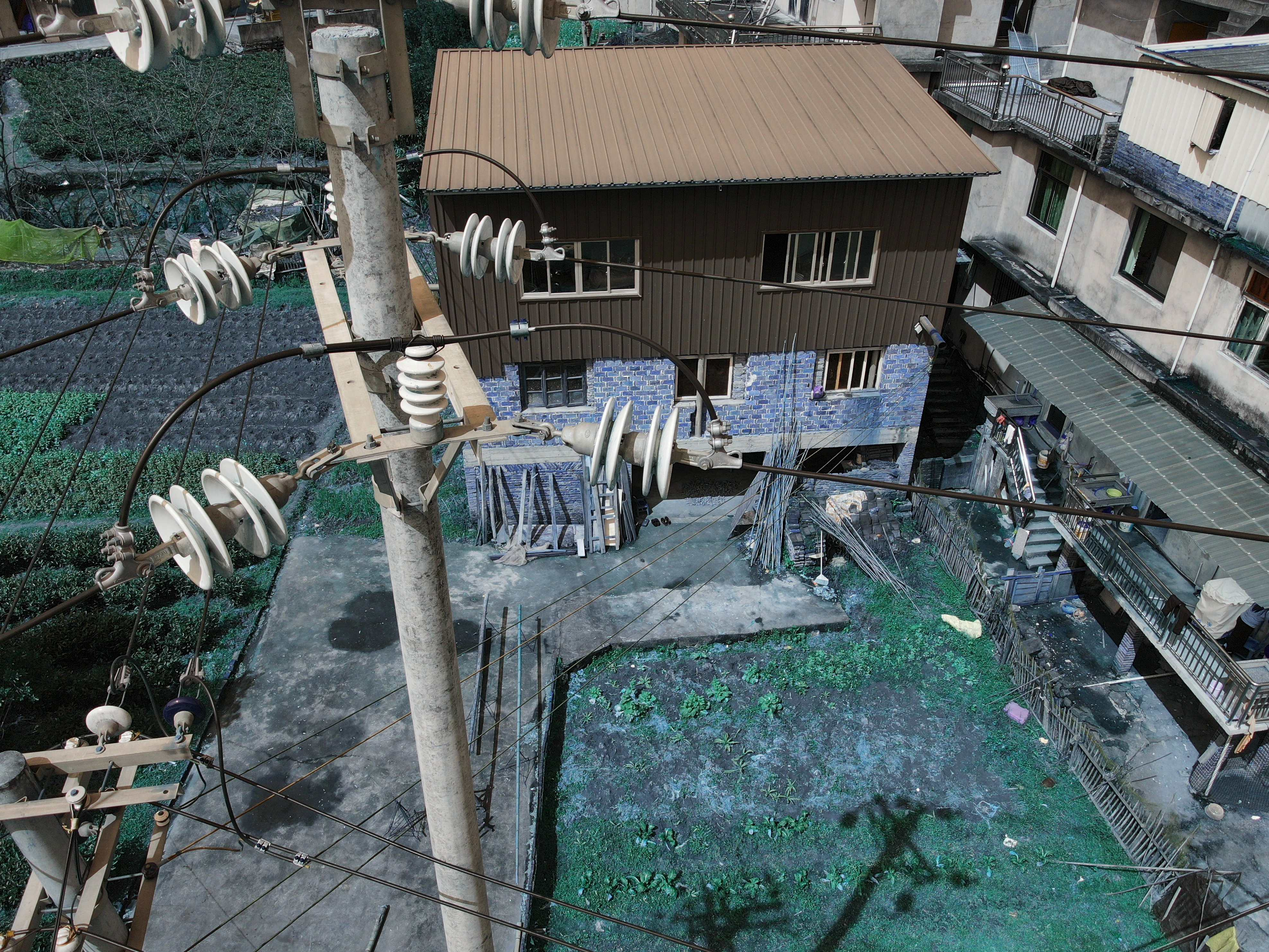severe_soiling_no_discharge_whole: (145, 456, 301, 594), (96, 2, 231, 75), (451, 2, 561, 62), (443, 211, 531, 286), (393, 341, 452, 443)
